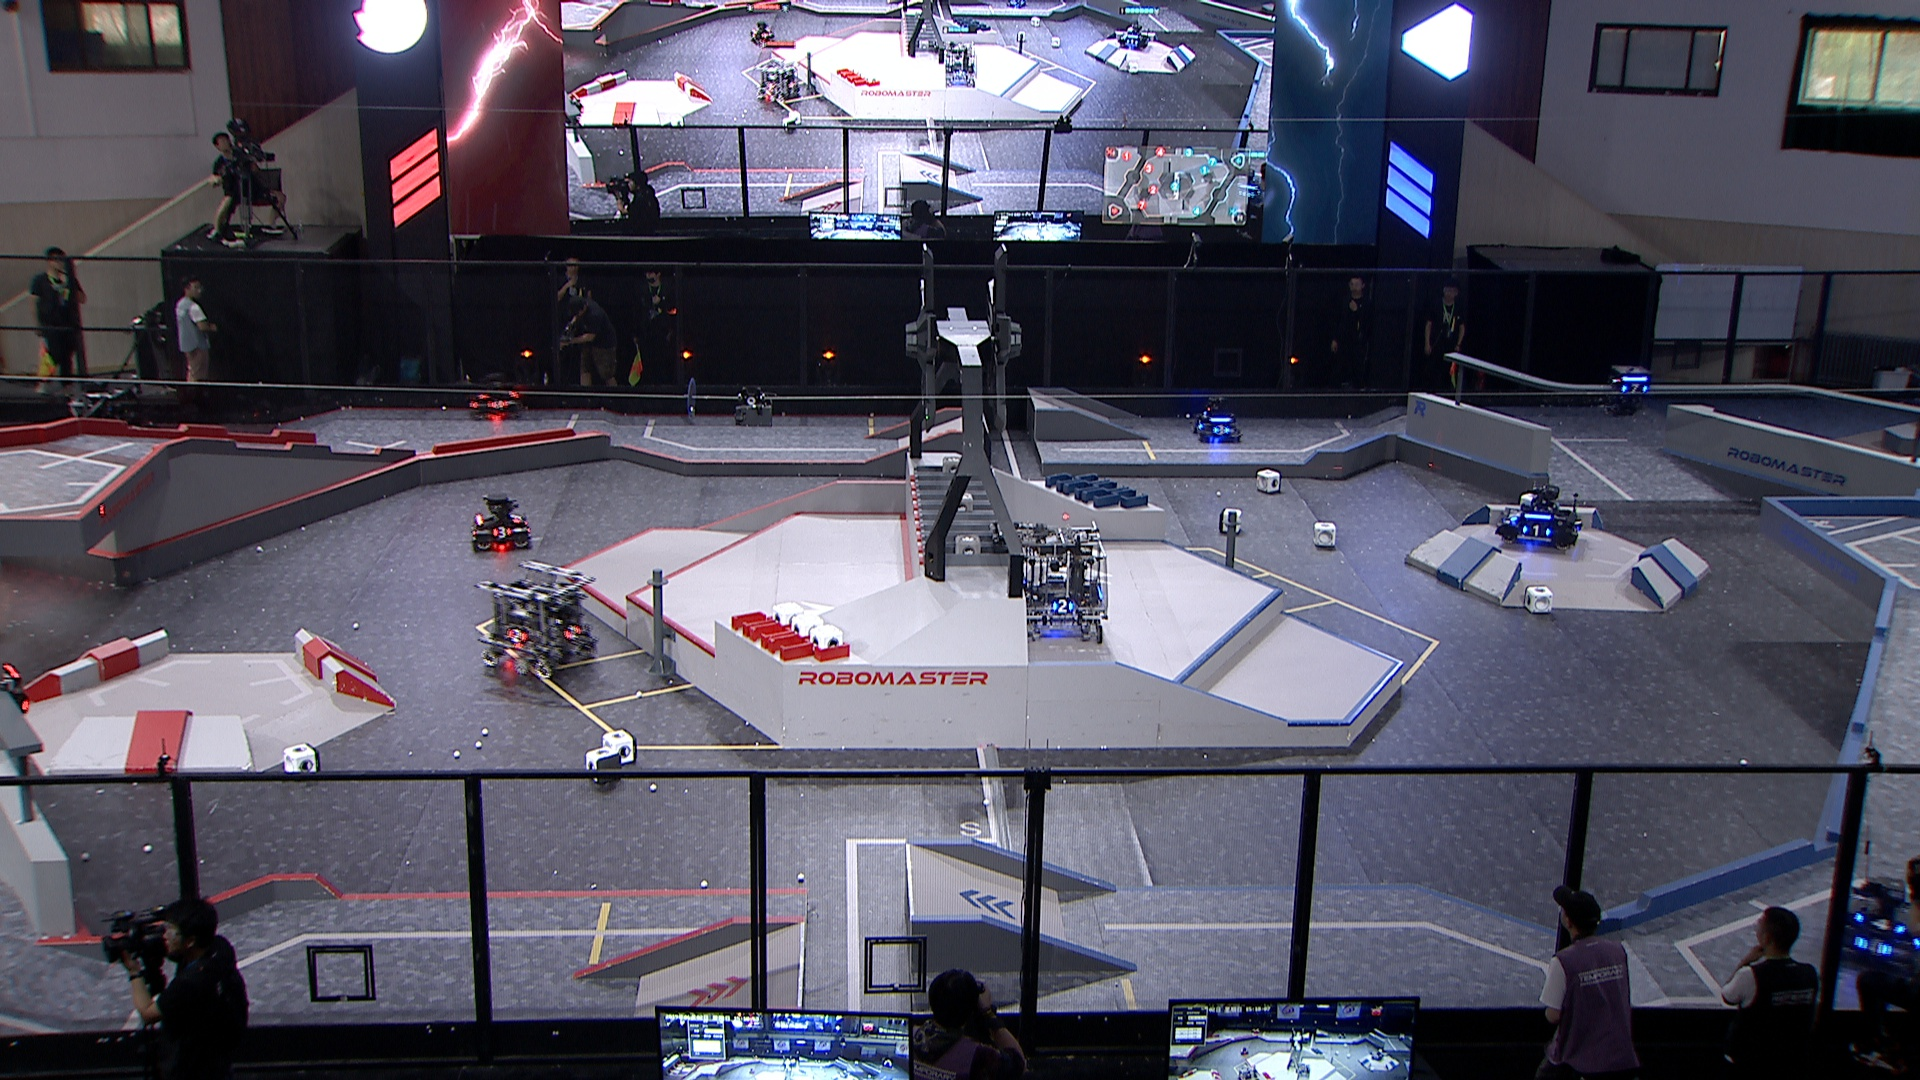armor: (1854, 911, 1907, 932), (1851, 935, 1894, 957), (1522, 524, 1552, 538), (562, 622, 583, 642), (504, 626, 529, 642), (489, 524, 512, 541), (1051, 597, 1073, 615), (1619, 384, 1650, 394), (509, 509, 524, 527), (487, 398, 510, 409), (1212, 425, 1233, 436), (1506, 509, 1522, 524)
car: (476, 560, 596, 676), (1001, 522, 1110, 644), (1826, 877, 1920, 975), (1491, 477, 1584, 553), (467, 491, 531, 553), (1189, 392, 1244, 444), (468, 368, 524, 419)
ignore: (756, 58, 803, 105), (938, 40, 977, 88), (1116, 20, 1153, 51), (746, 17, 775, 44)
watcher: (1602, 361, 1654, 419)
